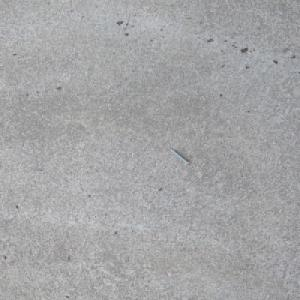Screw: (169, 148, 192, 164)
